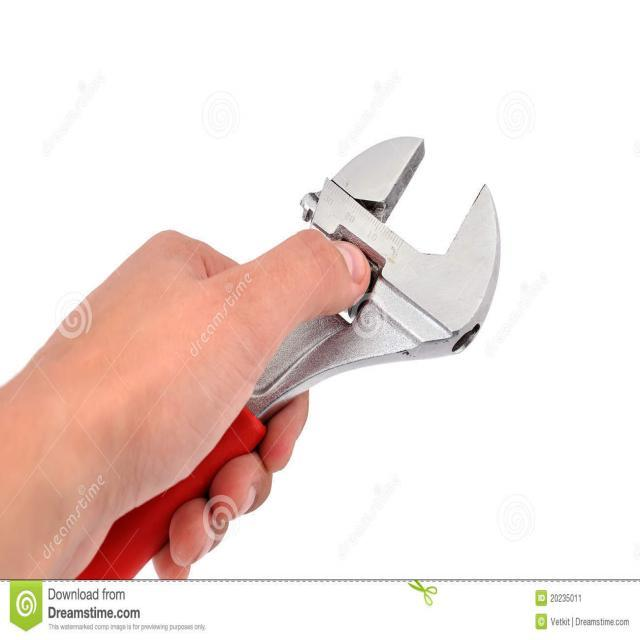wrench: (73, 120, 507, 584)
